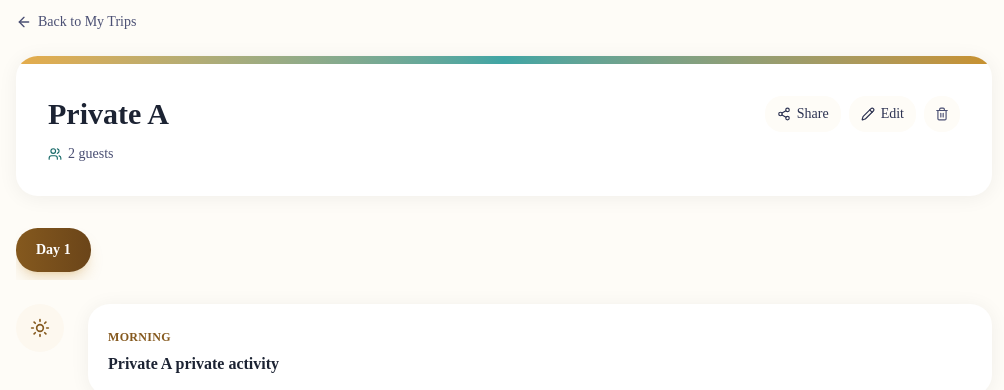
Test: ignores a late delete receipt after account change, including clipboard and navigation side effects
Click the button named "Delete trip". click: (942, 114)
box: [924, 96, 960, 132]
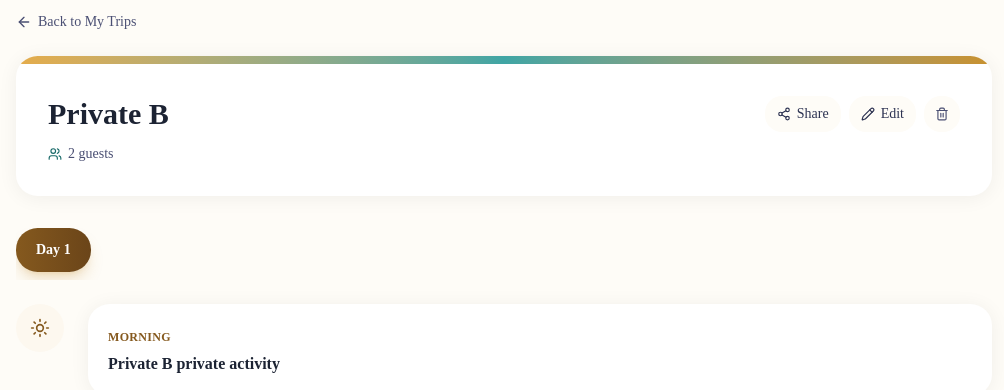
Check: the text "Private B" is shown, box [48, 96, 169, 132]
